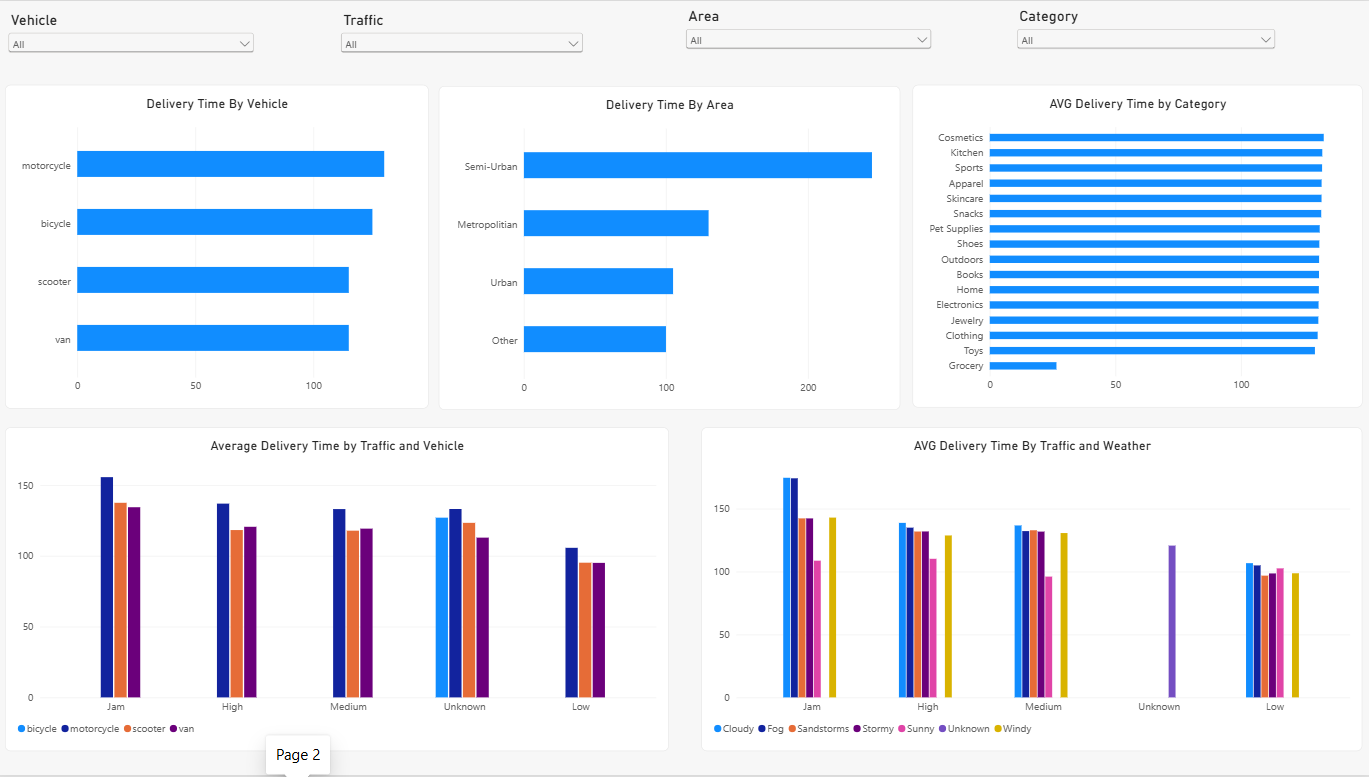

Layout of this report page (visuals, bound fields, positions):
{"tool":"powerbi","page":{"name":"Page 2","canvas":[1920,1080],"ordinal":1},"visuals":[{"type":"clusteredBarChart","title":"Delivery Time By Vehicle","fields":{"Category":["amazon_delivery.Vehicle"],"Y":["Median(amazon_delivery.Delivery_Time)"]},"box":[14,116.9,591.3,451.7],"z":0},{"type":"clusteredBarChart","title":"Delivery Time By Area","fields":{"Category":["amazon_delivery.Area"],"Y":["Median(amazon_delivery.Delivery_Time)"]},"box":[619.2,118.6,643.6,451.7],"z":1000},{"type":"clusteredBarChart","fields":{"Category":["amazon_delivery.Category"],"Y":["amazon_delivery.AVG Delivery Time"]},"box":[1280.2,116.9,627.9,450],"z":2000},{"type":"clusteredColumnChart","title":"Average Delivery Time by Traffic and Vehicle","fields":{"Category":["amazon_delivery.Traffic Category"],"Y":["amazon_delivery.AVG Delivery Time"],"Series":["amazon_delivery.Vehicle"]},"box":[14,594.8,926.2,451.7],"z":3000},{"type":"clusteredColumnChart","title":"AVG Delivery Time By Traffic and  Weather","fields":{"Category":["amazon_delivery.Traffic Category"],"Y":["amazon_delivery.AVG Delivery Time"],"Series":["amazon_delivery.Weather Category"]},"box":[985.5,594.8,922.7,451.7],"z":4000},{"type":"slicer","fields":{"Values":["amazon_delivery.Traffic Category"]},"box":[477.9,14,347.1,64.5],"z":5000},{"type":"slicer","fields":{"Values":["amazon_delivery.Vehicle"]},"box":[14,14,352.3,76.7],"z":6000},{"type":"slicer","fields":{"Values":["amazon_delivery.Area"]},"box":[959.3,8.7,352.3,76.7],"z":7000},{"type":"slicer","fields":{"Values":["amazon_delivery.Category"]},"box":[1421.5,8.7,369.8,76.7],"z":8000}]}

Visuals, with their boxes in screenshot pixels (x1, y1, x2, y2), scaled from the page's 1920x1080 canvas onto the 1369x777 screenshot:
"Delivery Time By Vehicle" clusteredBarChart: box=[10, 84, 432, 409]
"Delivery Time By Area" clusteredBarChart: box=[442, 85, 900, 410]
clusteredBarChart - amazon_delivery.Category x amazon_delivery.AVG Delivery Time: box=[913, 84, 1361, 408]
"Average Delivery Time by Traffic and Vehicle" clusteredColumnChart: box=[10, 428, 670, 753]
"AVG Delivery Time By Traffic and  Weather" clusteredColumnChart: box=[703, 428, 1361, 753]
slicer - amazon_delivery.Traffic Category: box=[341, 10, 588, 56]
slicer - amazon_delivery.Vehicle: box=[10, 10, 261, 65]
slicer - amazon_delivery.Area: box=[684, 6, 935, 61]
slicer - amazon_delivery.Category: box=[1014, 6, 1277, 61]
